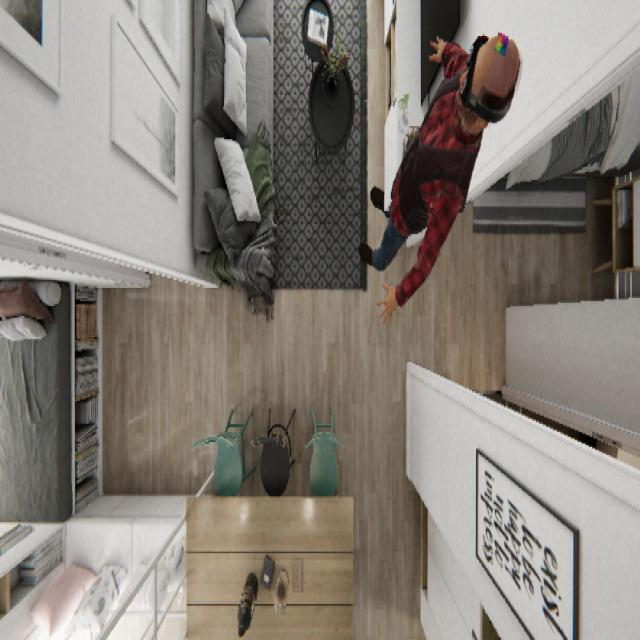Colored-Marker: (492, 28, 510, 57)
Human: (358, 28, 522, 326)
